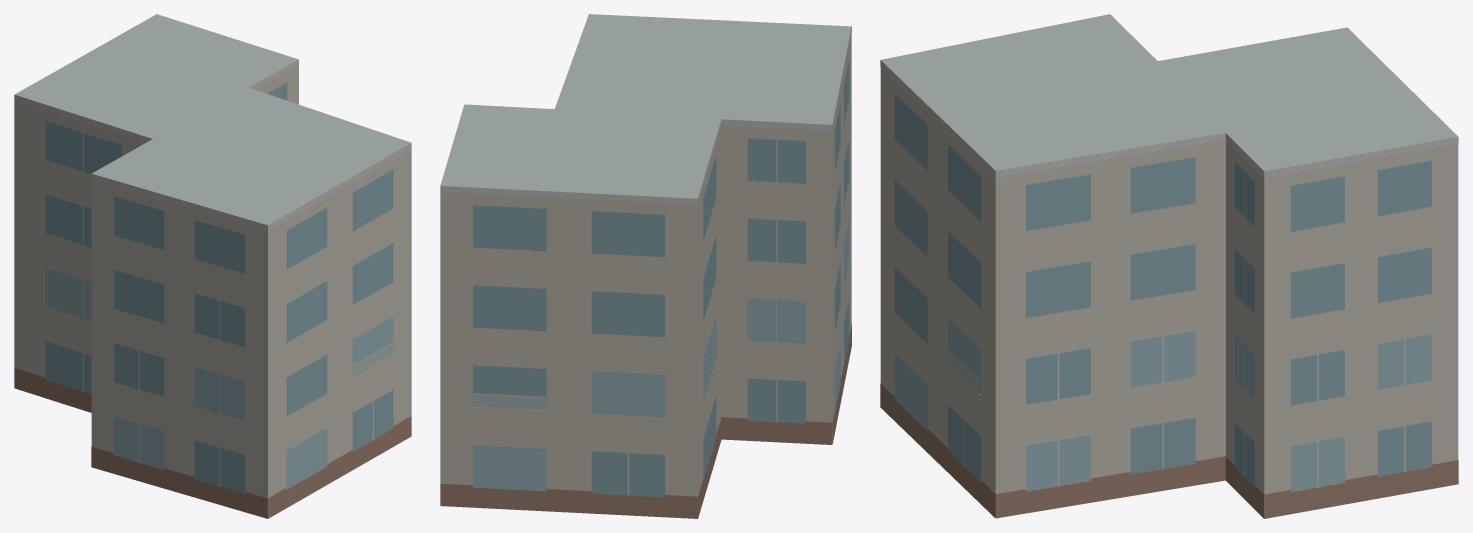
The model's file is survey-upis-32937516.glb.
3 renders of one model, left to right at view 1: azimuth 30°, elevation 25°; view 2: azimuth 150°, elevation 25°; view 3: azimuth 270°, elevation 25°, orthographic. The views are drawn at different scales.
Parts seen in each view (by area): view 1: survey-upis-32937516.tmp; view 2: survey-upis-32937516.tmp; view 3: survey-upis-32937516.tmp.
Part boxes in pixels (x1,y1,x2,y2): survey-upis-32937516.tmp: (14, 14, 411, 518); survey-upis-32937516.tmp: (440, 14, 851, 518); survey-upis-32937516.tmp: (880, 14, 1458, 518).
Size of the model in its own units: 11.86 by 12.2 by 18.4.
